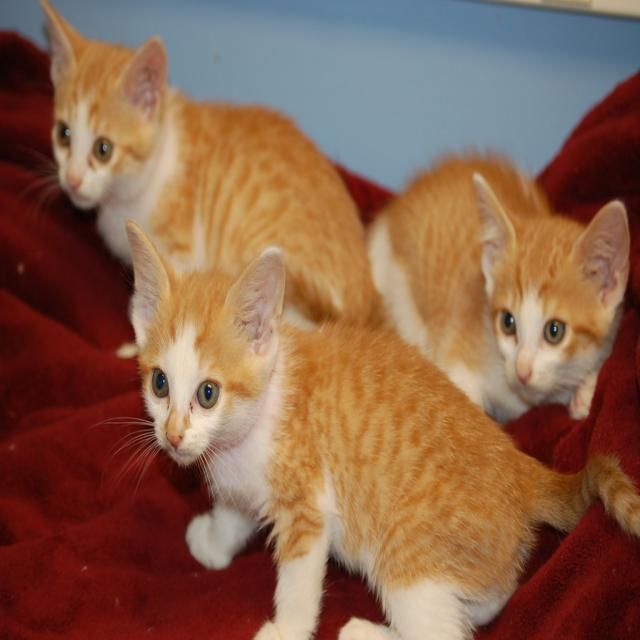Cat: (123, 210, 639, 638), (39, 0, 389, 362), (353, 141, 631, 443)
